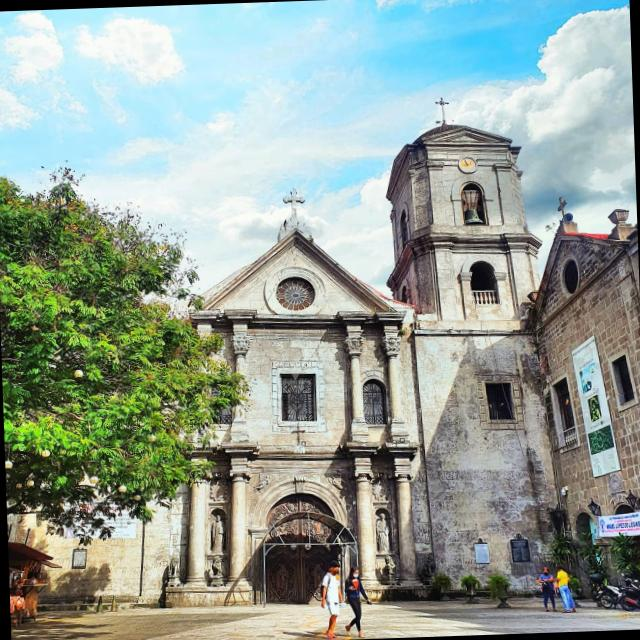San Agustin Church: (20, 97, 570, 632)
